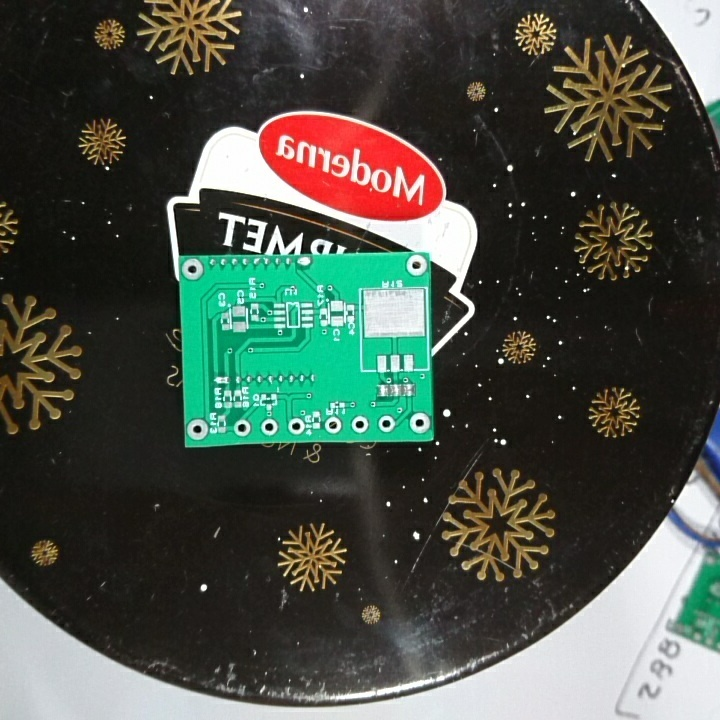F: (404, 253, 428, 278), (187, 416, 210, 442), (181, 258, 205, 282), (408, 410, 430, 433), (260, 417, 279, 437), (377, 413, 395, 434), (323, 415, 342, 434), (349, 415, 369, 433), (233, 418, 251, 437), (287, 417, 304, 436)
P: (212, 372, 231, 389), (294, 255, 313, 270)
